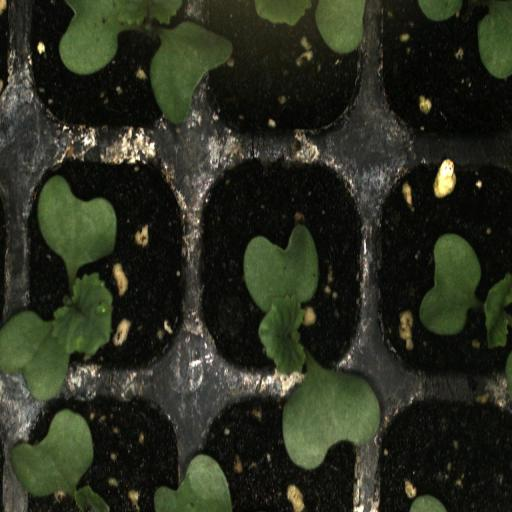seedling: (195, 146, 374, 389), (12, 144, 192, 380), (374, 148, 512, 386), (17, 0, 195, 141)
